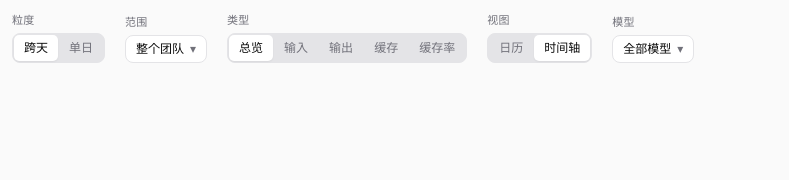
Scenario: TokenStatsControls —— model 筛选下拉（availableModels 数据源） › 有 availableModels → model 下拉渲染 + 选项含「全部」+ 每个 distinct model
Step 1. Click the button "全部模型 ▾" → (653, 48), box [612, 34, 694, 62]
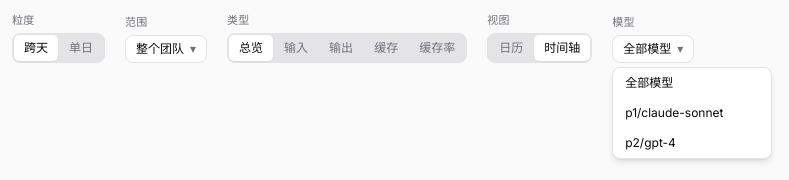
Expected: the number of buttons "全部模型 ▾" is 2, [612, 34, 694, 62]; [613, 68, 771, 98]
Expected: the button "p1/claude-sonnet" is shown, [613, 98, 771, 128]
Expected: the button "p2/gpt-4" is shown, [613, 128, 771, 158]
